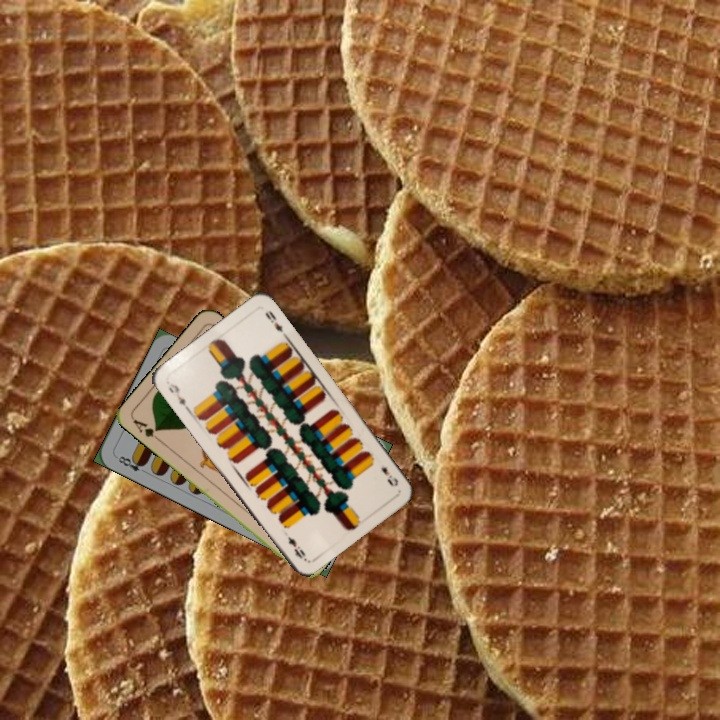E8: (112, 452, 150, 476)
E9: (164, 379, 192, 413), (377, 463, 401, 489)
GA: (129, 415, 164, 444)
